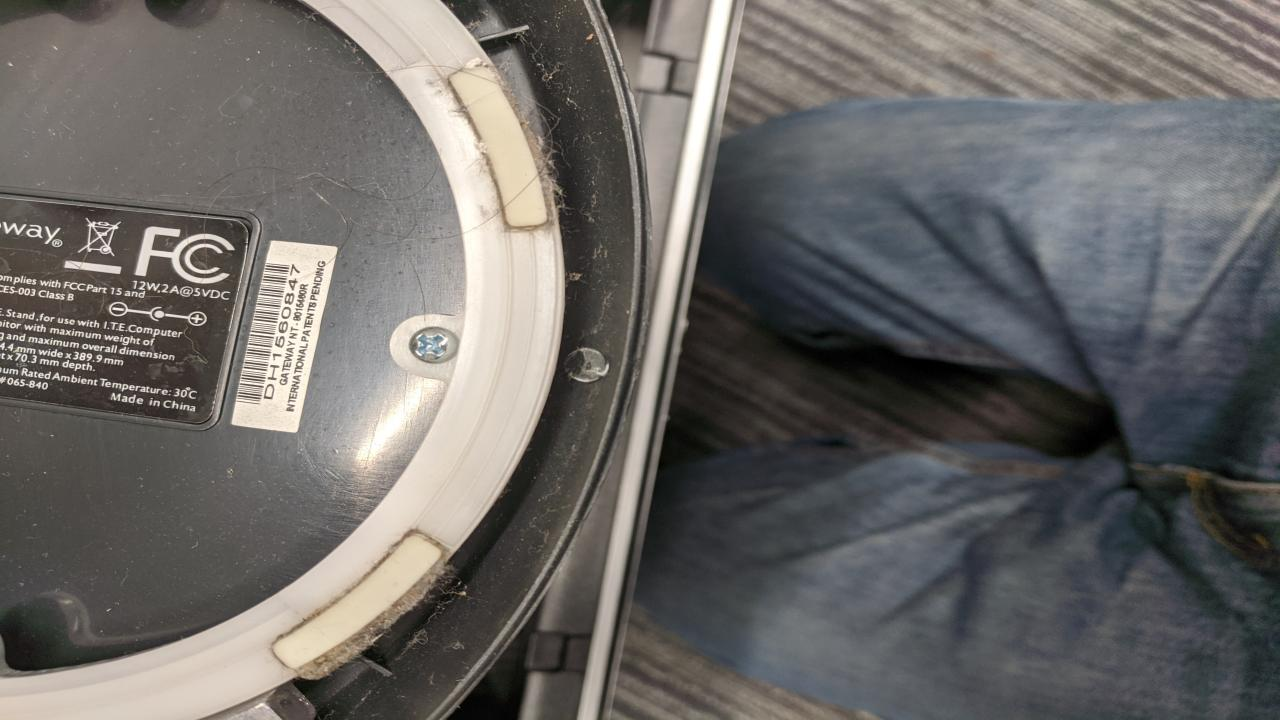CRS: (410, 327, 459, 365)
